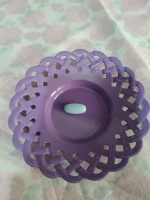Apranax: (63, 103, 87, 117)
